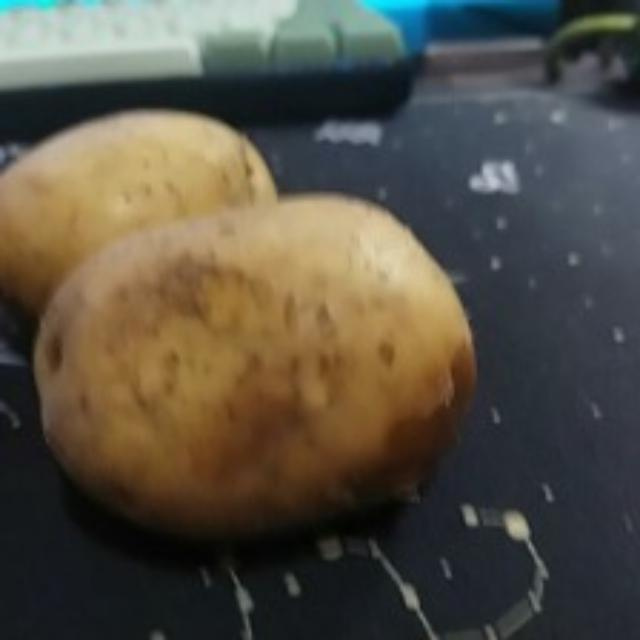Damaged potato: (32, 197, 484, 568)
Potato: (0, 104, 282, 322)
